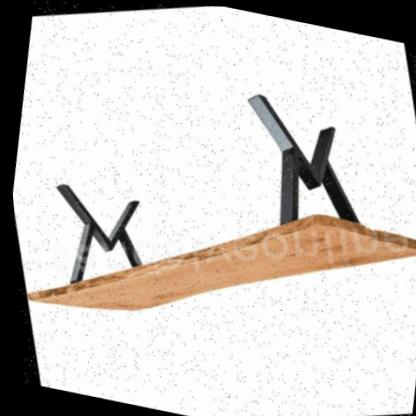Table: (0, 0, 416, 414)
